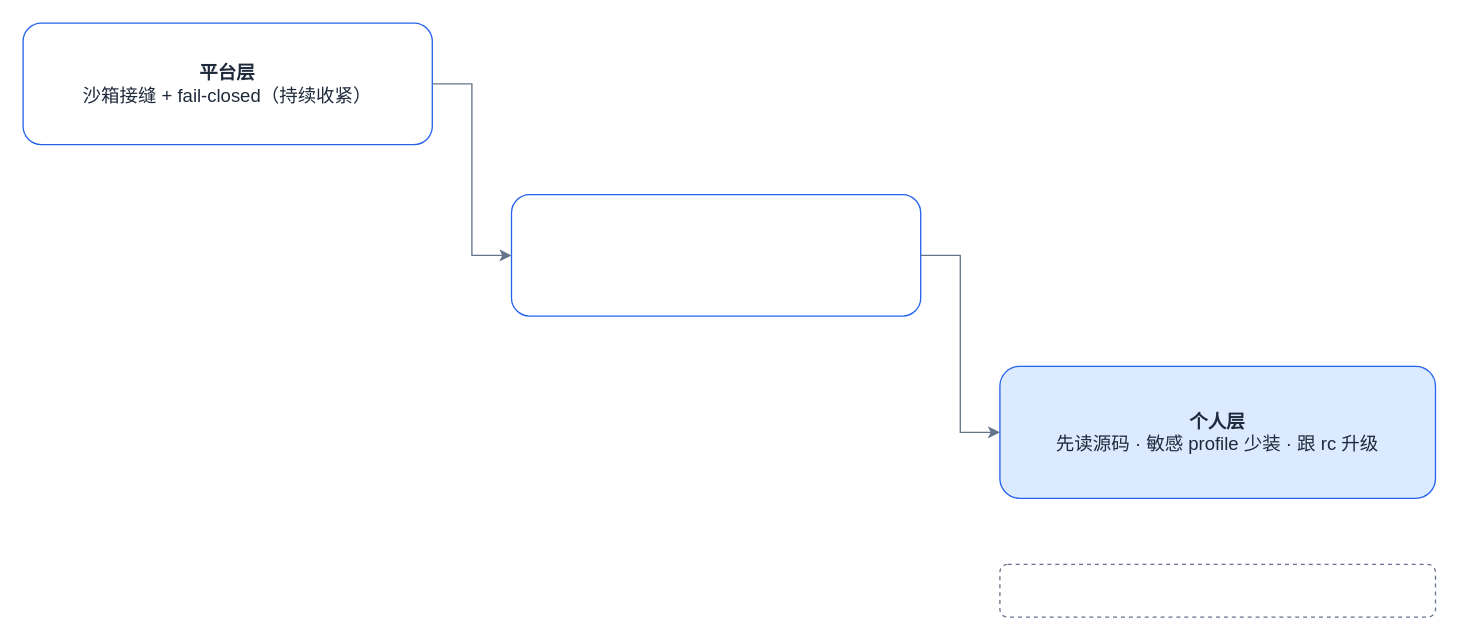
The diagram is 1459 pixels wide and 640 high, and some of its shapes have lost their labels. The shapes that lost their labels are listed below. From the top down, each one's centre as x and y in pixels, then its label:
At point (715, 254): "生态层 #2269 STANDARD.md 提案（进行中）".
At point (1217, 590): "护栏最贴身的一层是你自己".
